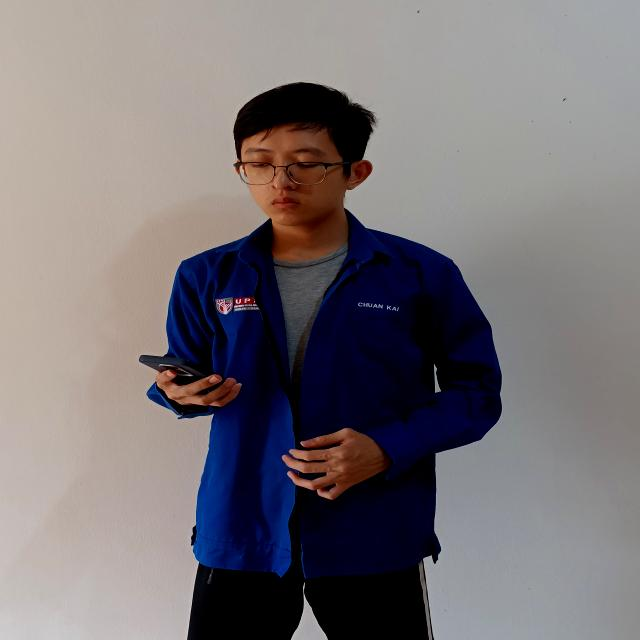person_with_labcoat: (148, 83, 501, 640)
